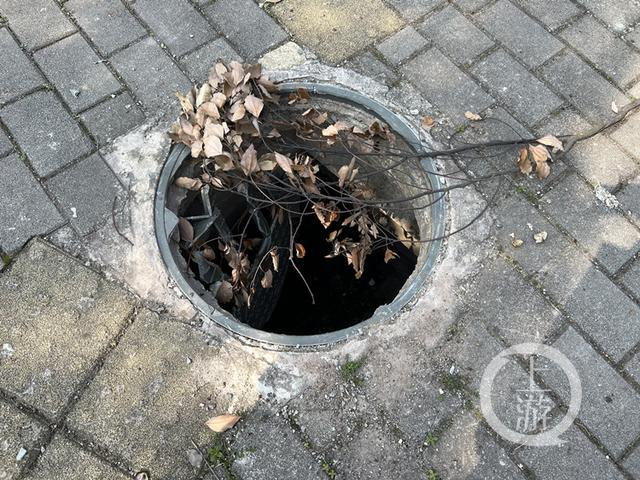lose: (156, 69, 449, 352)
